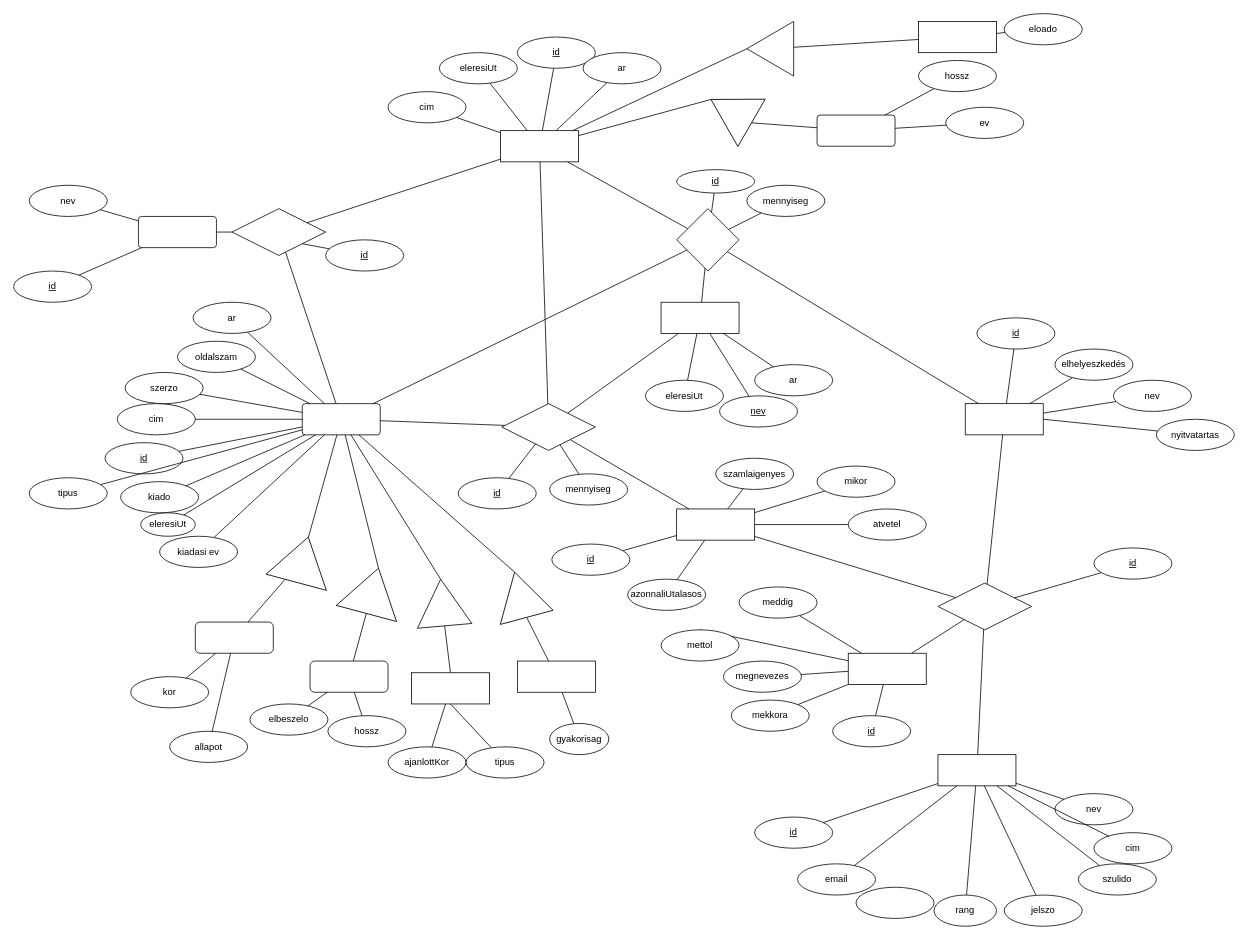
This 1248x940 diagram has some shape labels left out. Here are the shapes that lost their labels. From the top down, the centre of each, then its label:
At [957,37]: "Zene".
At [539,146]: "Multimedia".
At [855,130]: "Film".
At [177,232]: "Mufaj".
At [278,231]: "Mufaja".
At [707,239]: "Raktaron".
At [699,317]: "Ajandek".
At [340,419]: "Konyv".
At [548,426]: "tartozik".
At [1003,419]: "Bolt".
At [715,524]: "Vasarlas".
At [984,606]: "Vasarol".
At [234,637]: "AntikvarKonyv".
At [348,676]: "Hangoskonyv".
At [450,688]: "Tankonyv".
At [556,676]: "Magazin".
At [886,668]: "Kedvezmeny".
At [976,770]: "Vasarlo".
At [894,902]: "felhasznaloNev".
